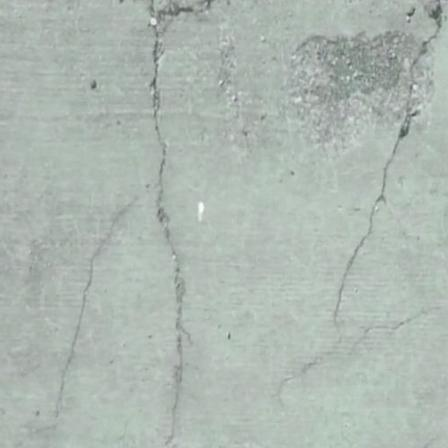crack: (11, 0, 254, 448), (263, 0, 448, 435)
